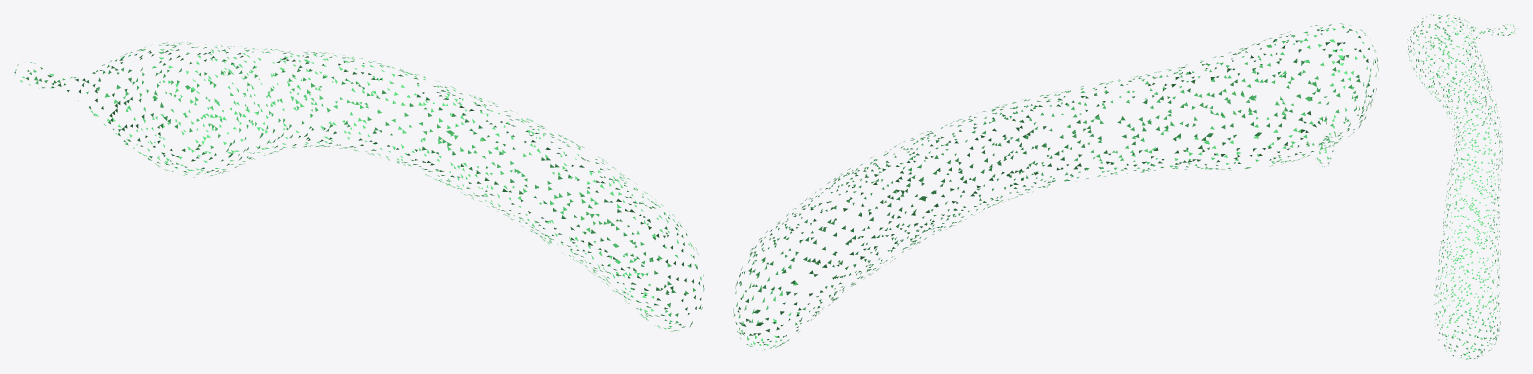
File: morph_020.glb
3 views of the same model, side by side, from view 1: azimuth 30°, elevation 25°; view 2: azimuth 150°, elevation 25°; view 3: azimuth 270°, elevation 25° (orthographic). The views are drawn at different scales.
Bounding box in the file's own units: 105 × 68.6 × 32.44.
